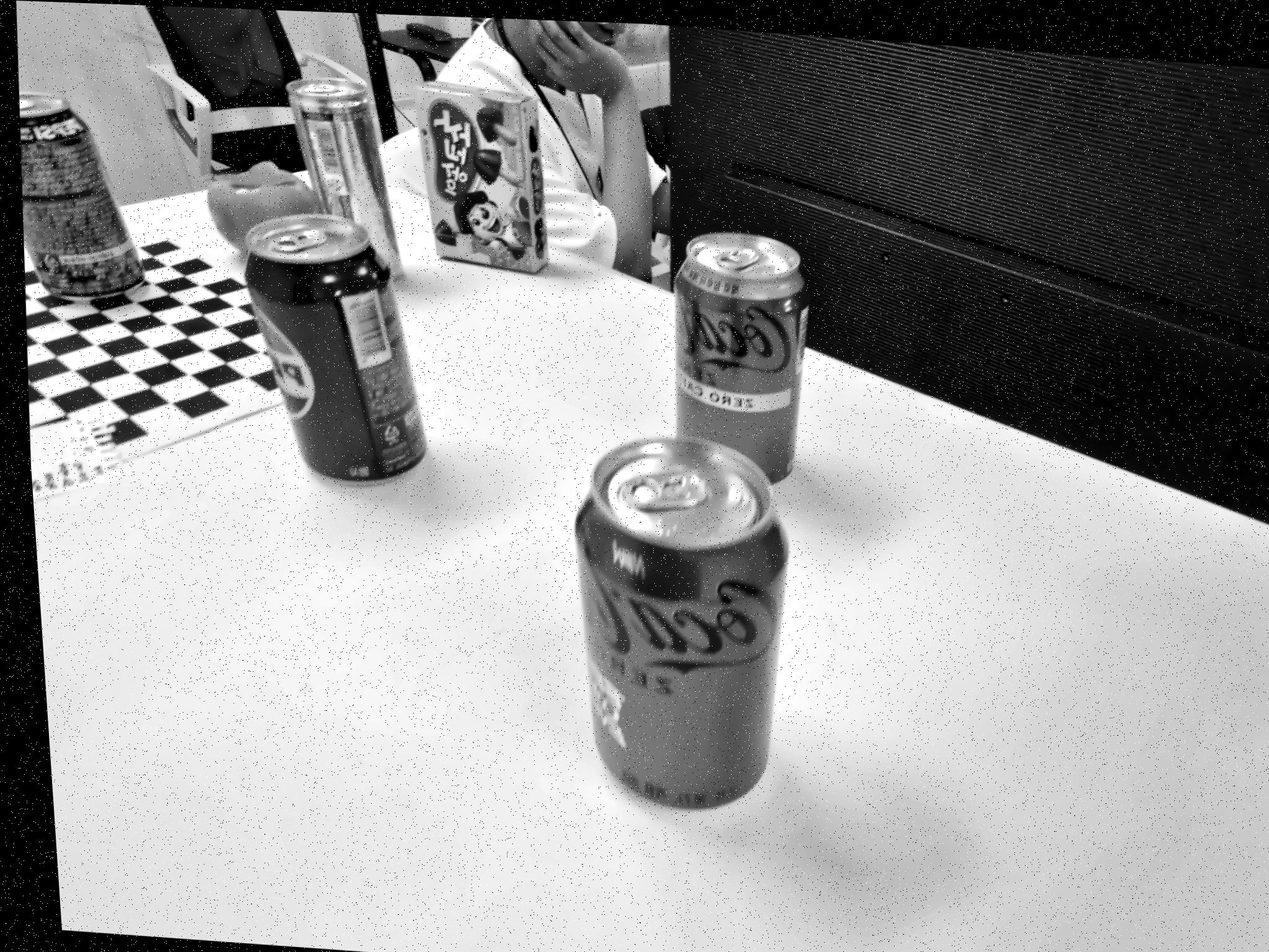can_coke_decaf: (676, 233, 810, 485)
can_coke_zero: (579, 433, 789, 808)
can_pepsi: (243, 213, 436, 486)
